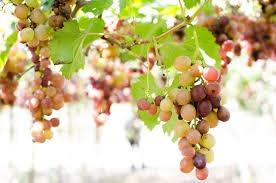Grape Rotten: (1, 1, 276, 180), (136, 55, 230, 181), (2, 0, 76, 143)
